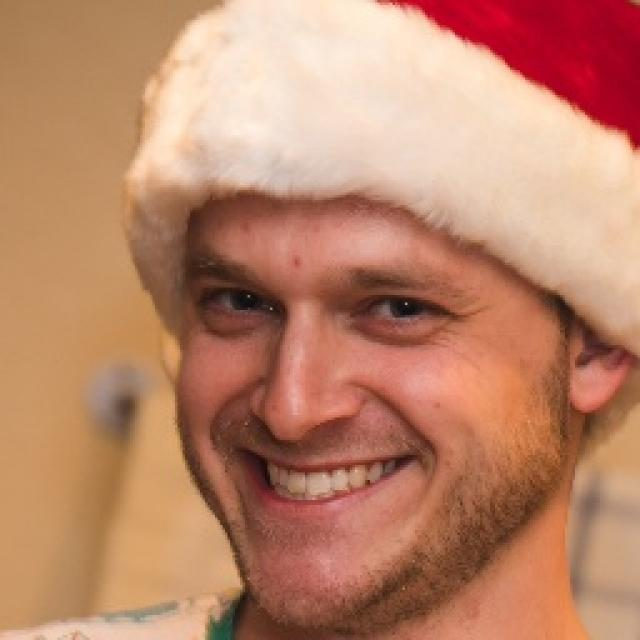earlobe: (568, 377, 618, 417)
eye: (197, 277, 281, 326), (356, 286, 444, 332)
nose: (252, 412, 362, 453)
wholeear: (566, 299, 636, 417)
